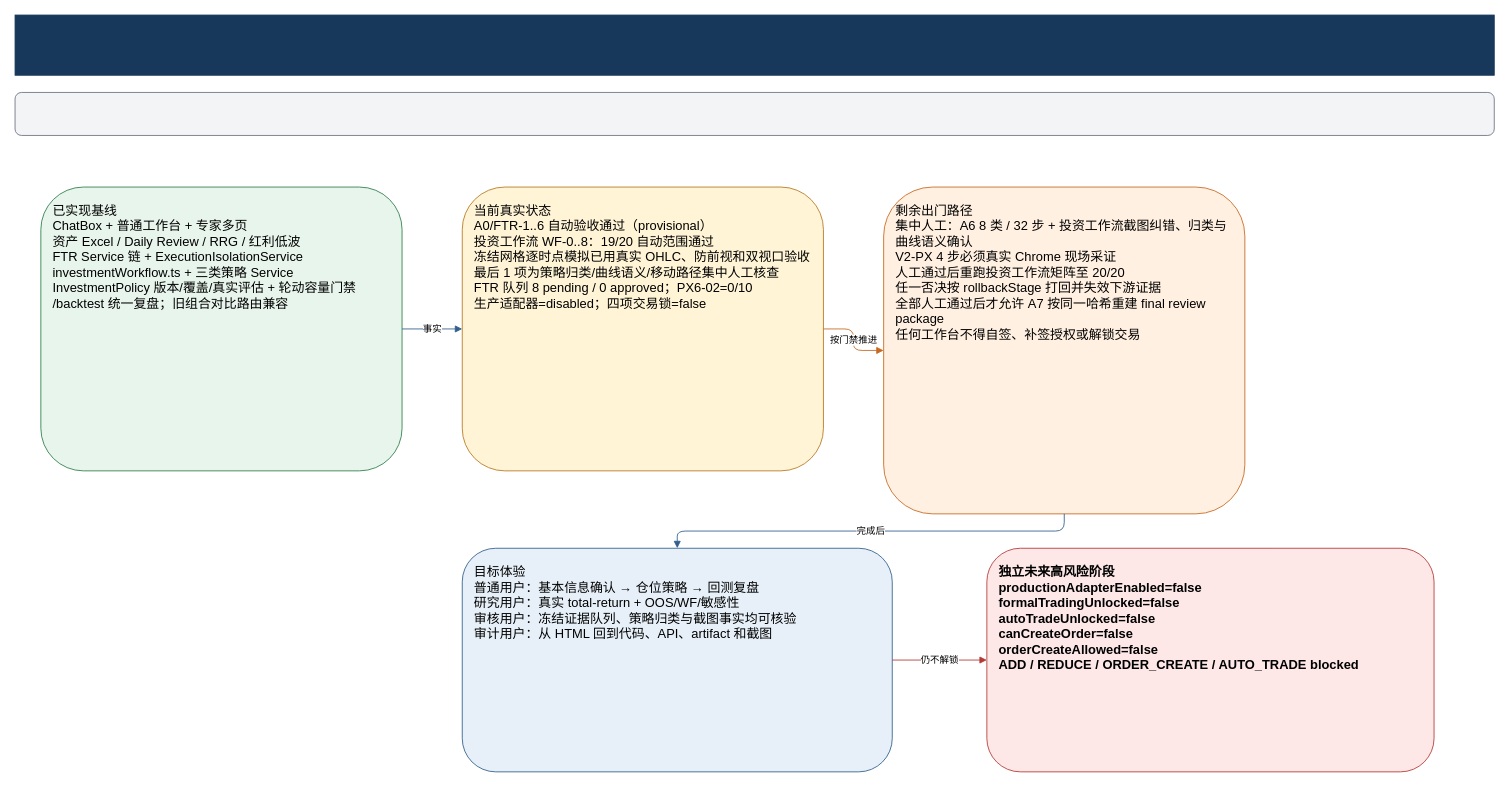
The diagram is 1509 pixels wide and 787 high, and some of its shapes have lost their labels. Here are the shapes that lost their labels. From the top down, the centre of each, then its label:
At (754,44): "FAMS 当前状态：FTR 与投资工作流自动范围已闭环，PRD 全量仍未出门".
At (754,113): "绿=已实现并自动验收 黄=已实现但业务证据不足 橙=本阶段待开发/外部输入 蓝=审计产物 红=禁止与打回".
